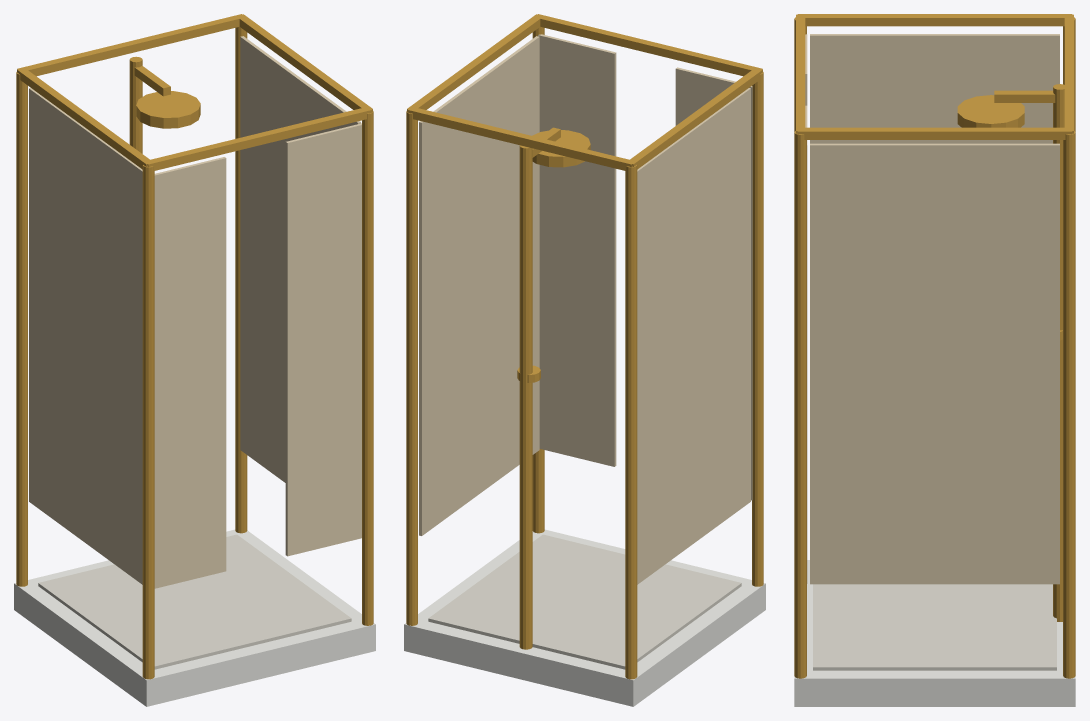
The model's file is chuveiro.obj.
3 views of the same model, side by side, from view 1: azimuth 30°, elevation 25°; view 2: azimuth 150°, elevation 25°; view 3: azimuth 270°, elevation 25° (orthographic). The views are drawn at different scales.
Visible parts, largest first — view 1: parte_10_tecido_creme, parte_13_tecido_creme, parte_12_tecido_creme, parte_11_tecido_creme, parte_01_marmore, parte_00_porcelana, parte_03_latao, parte_05_latao, parte_02_latao, parte_04_latao, parte_07_latao, parte_06_latao (+4 smaller); view 2: parte_10_tecido_creme, parte_11_tecido_creme, parte_13_tecido_creme, parte_01_marmore, parte_00_porcelana, parte_14_latao, parte_02_latao, parte_04_latao, parte_03_latao, parte_06_latao, parte_07_latao, parte_12_tecido_creme (+4 smaller); view 3: parte_11_tecido_creme, parte_10_tecido_creme, parte_01_marmore, parte_00_porcelana, parte_04_latao, parte_05_latao, parte_09_latao, parte_08_latao, parte_14_latao, parte_16_latao, parte_06_latao, parte_07_latao (+2 smaller).
Part boxes in pixels (bbox=[...]): parte_10_tecido_creme: bbox=[29, 88, 142, 584]; parte_13_tecido_creme: bbox=[285, 123, 361, 556]; parte_12_tecido_creme: bbox=[154, 157, 226, 588]; parte_11_tecido_creme: bbox=[240, 36, 360, 482]; parte_01_marmore: bbox=[38, 534, 351, 669]; parte_00_porcelana: bbox=[14, 529, 375, 706]; parte_03_latao: bbox=[142, 165, 154, 679]; parte_05_latao: bbox=[362, 111, 373, 625]; parte_02_latao: bbox=[16, 72, 27, 586]; parte_04_latao: bbox=[235, 27, 247, 533]; parte_07_latao: bbox=[144, 106, 372, 170]; parte_06_latao: bbox=[17, 14, 244, 76]; parte_10_tecido_creme: bbox=[637, 88, 750, 584]; parte_11_tecido_creme: bbox=[419, 36, 539, 535]; parte_13_tecido_creme: bbox=[538, 34, 616, 466]; parte_01_marmore: bbox=[428, 534, 741, 669]; parte_00_porcelana: bbox=[404, 529, 765, 706]; parte_14_latao: bbox=[519, 145, 532, 649]; parte_02_latao: bbox=[625, 165, 637, 679]; parte_04_latao: bbox=[406, 111, 417, 625]; parte_03_latao: bbox=[752, 72, 763, 586]; parte_06_latao: bbox=[407, 106, 635, 170]; parte_07_latao: bbox=[534, 14, 762, 76]; parte_12_tecido_creme: bbox=[675, 67, 752, 500]; parte_11_tecido_creme: bbox=[810, 143, 1059, 584]; parte_10_tecido_creme: bbox=[810, 34, 1059, 143]; parte_01_marmore: bbox=[813, 584, 1056, 670]; parte_00_porcelana: bbox=[794, 560, 1075, 706]; parte_04_latao: bbox=[1063, 131, 1075, 678]; parte_05_latao: bbox=[794, 131, 806, 678]; parte_09_latao: bbox=[797, 127, 1072, 139]; parte_08_latao: bbox=[797, 14, 1072, 26]; parte_14_latao: bbox=[1053, 84, 1064, 621]; parte_16_latao: bbox=[957, 95, 1024, 127]; parte_06_latao: bbox=[1064, 14, 1073, 133]; parte_07_latao: bbox=[796, 14, 805, 133].
Bounding box in the file's own units: 0.9 × 2.03 × 0.9.
